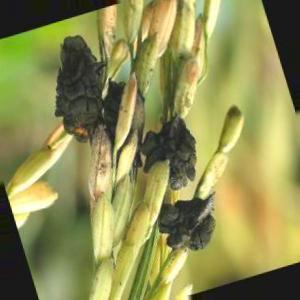Leaf_Scald: (53, 36, 105, 146), (148, 123, 192, 190), (158, 204, 211, 249)
